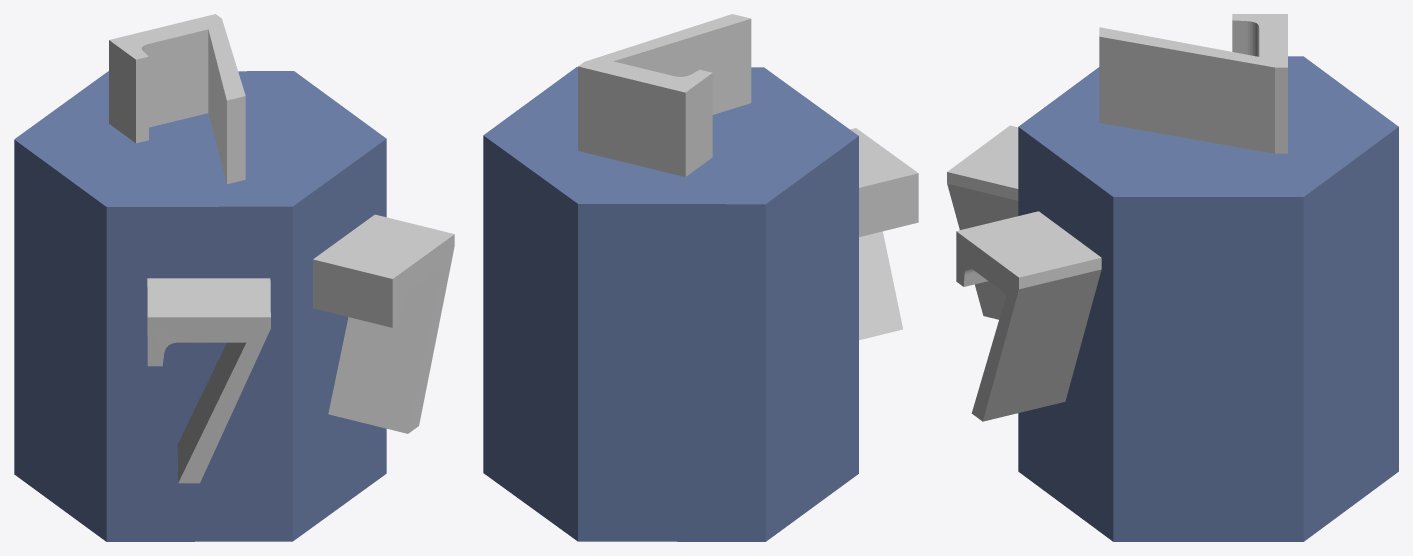
The model's file is number7.glb.
The picture shows the model from 3 angles, left to right: view 1: azimuth 30°, elevation 25°; view 2: azimuth 150°, elevation 25°; view 3: azimuth 270°, elevation 25°; orthographic projection. The views are drawn at different scales.
Parts seen in each view (by area): view 1: Mesh_Mesh_head_geo.001_lambert2SG.001; view 2: Mesh_Mesh_head_geo.001_lambert2SG.001; view 3: Mesh_Mesh_head_geo.001_lambert2SG.001.
Part boxes in pixels (left/top/right/bottom): Mesh_Mesh_head_geo.001_lambert2SG.001: left=14, top=14, right=454, bottom=541; Mesh_Mesh_head_geo.001_lambert2SG.001: left=483, top=14, right=918, bottom=541; Mesh_Mesh_head_geo.001_lambert2SG.001: left=947, top=14, right=1398, bottom=541.
Size of the model in its own units: 38.91 by 50 by 47.48.
